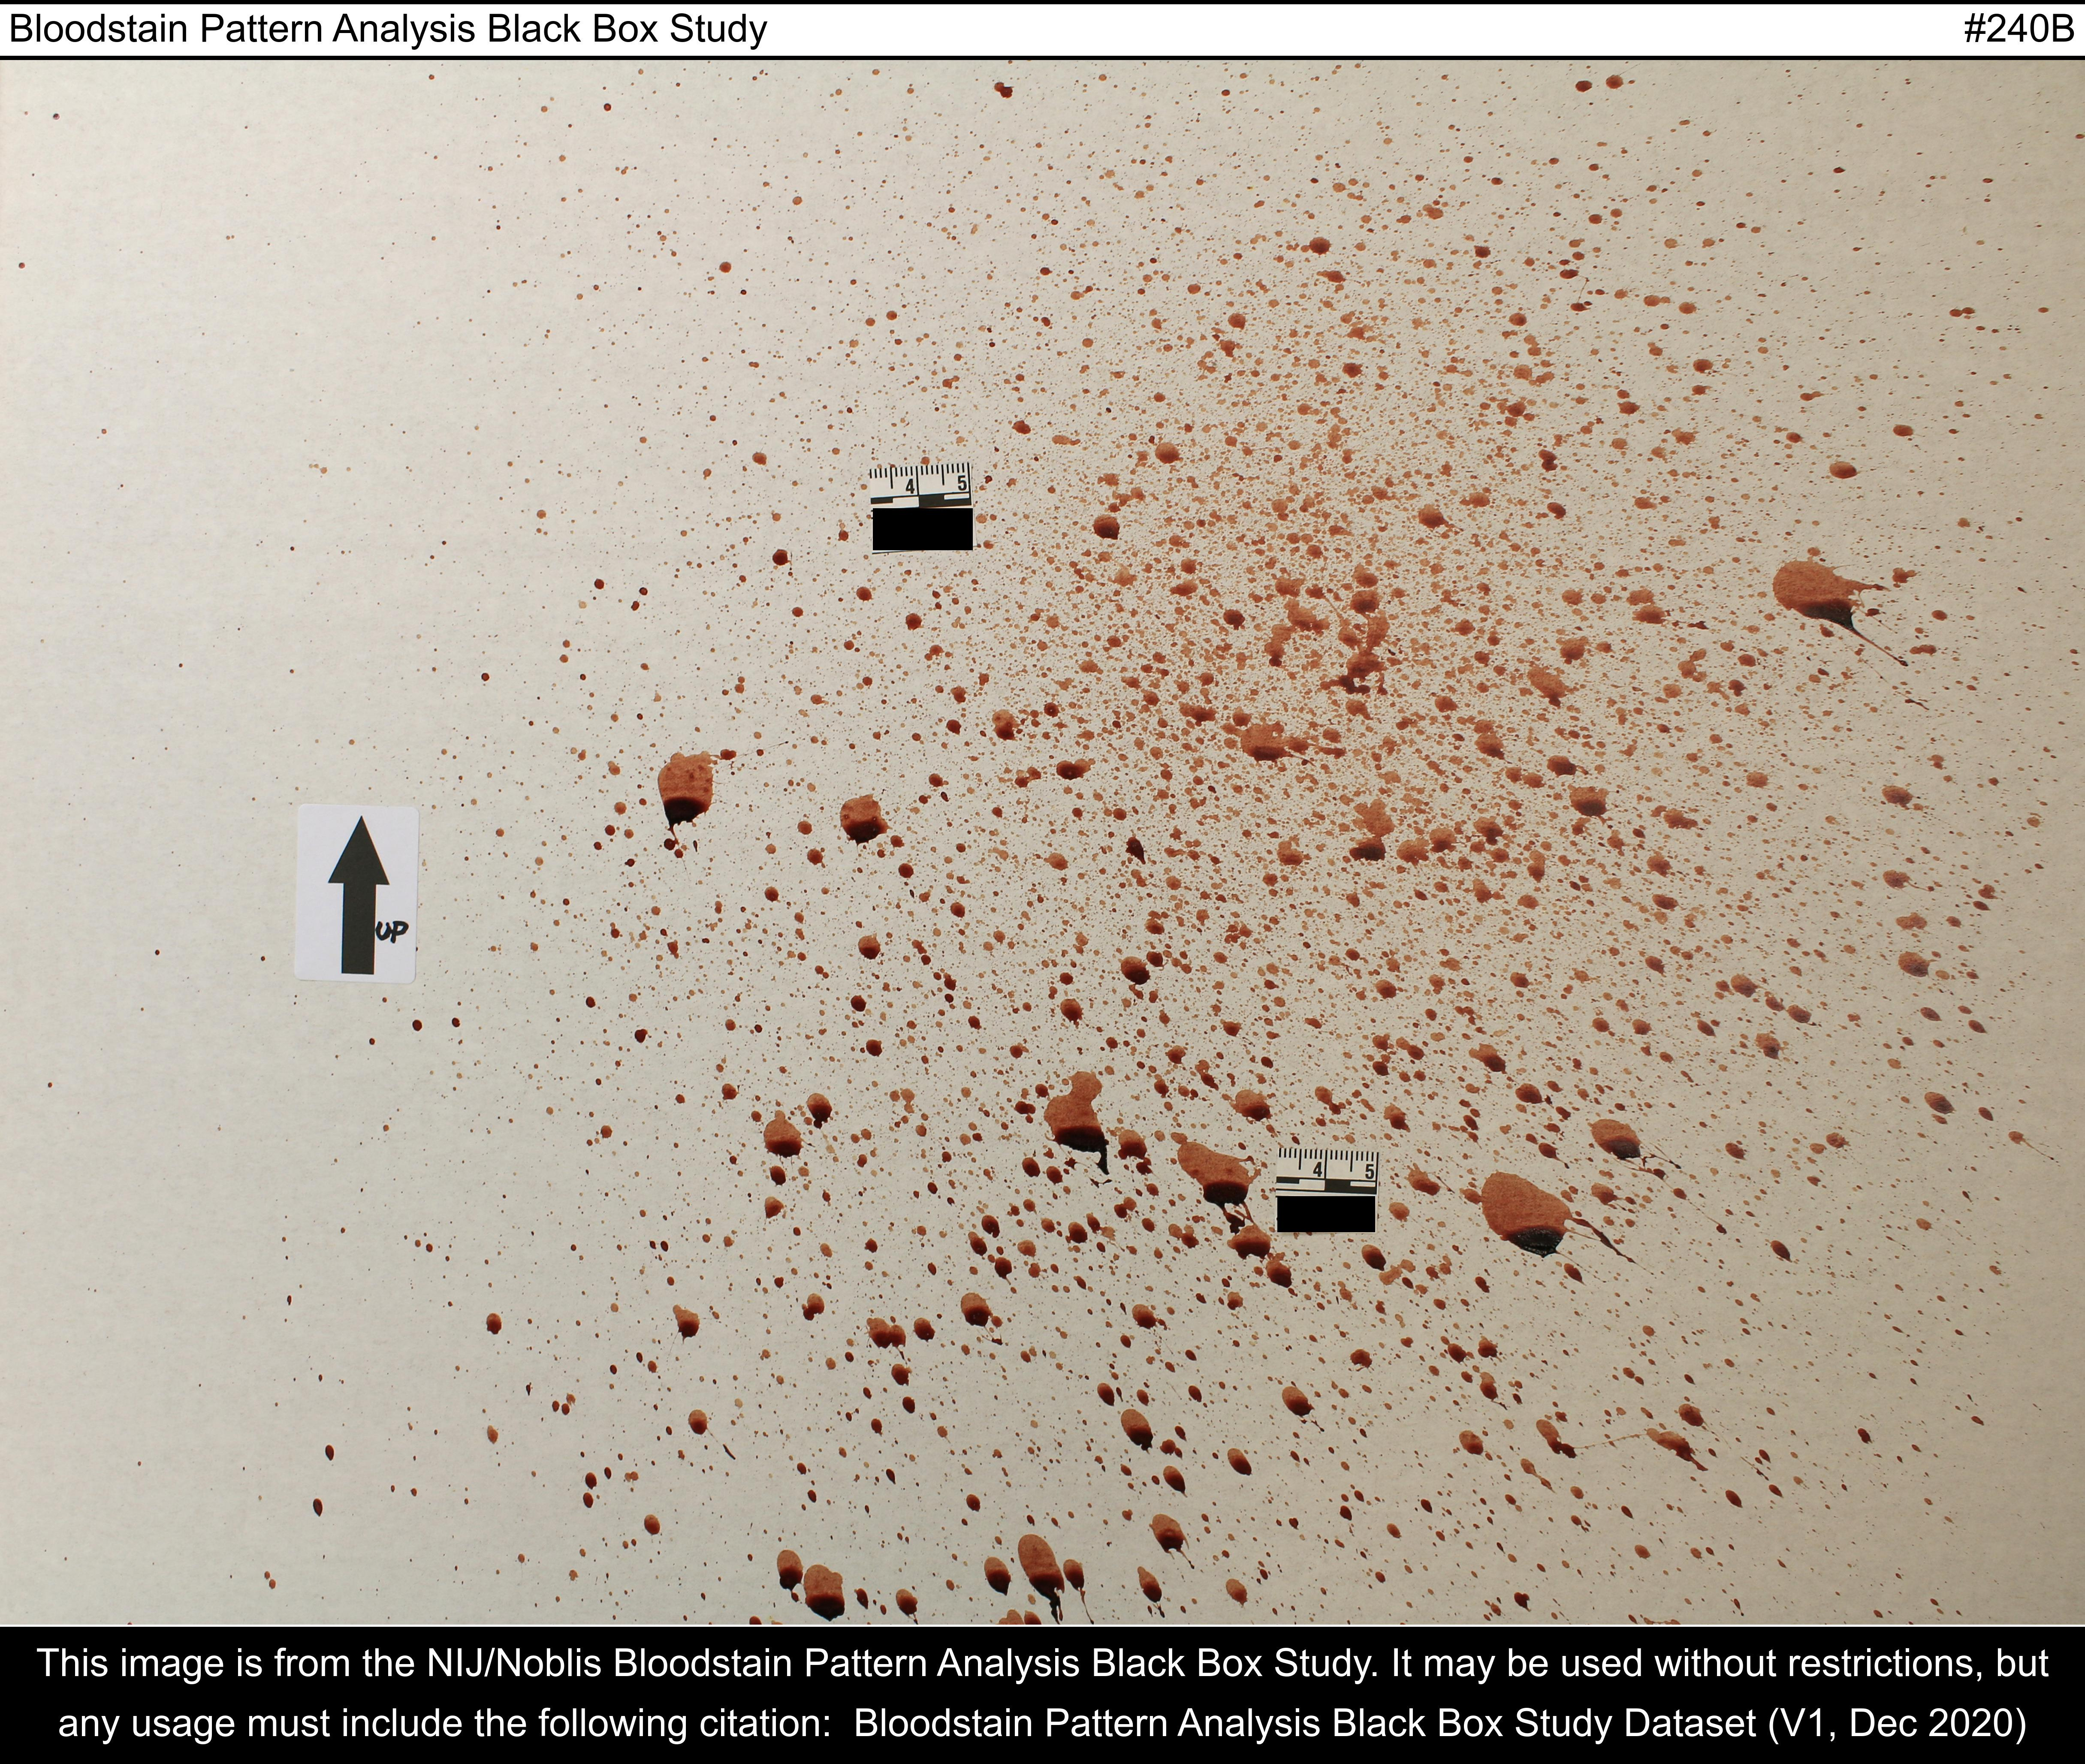Impact: (261, 89, 2085, 1617)
